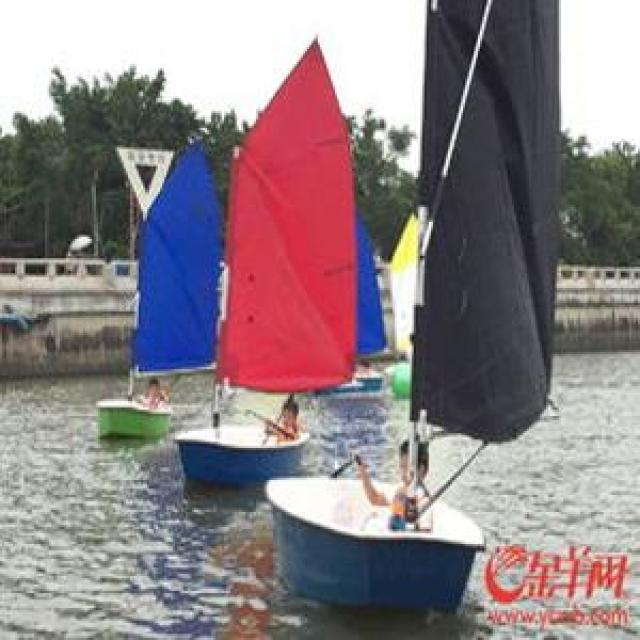sailboat: (257, 0, 533, 612), (198, 62, 331, 492), (80, 136, 202, 445)
